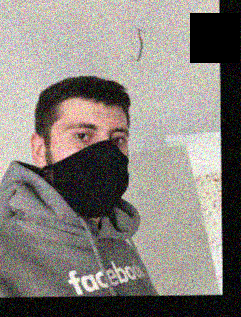with_mask: (50, 109, 129, 218)
